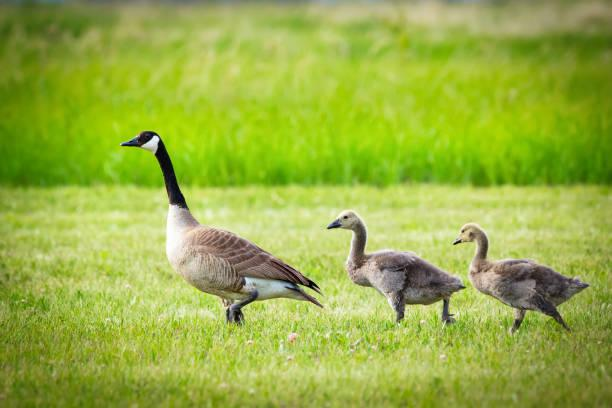Canadian-Goose: (120, 130, 309, 320), (324, 206, 463, 321), (454, 222, 590, 329)
